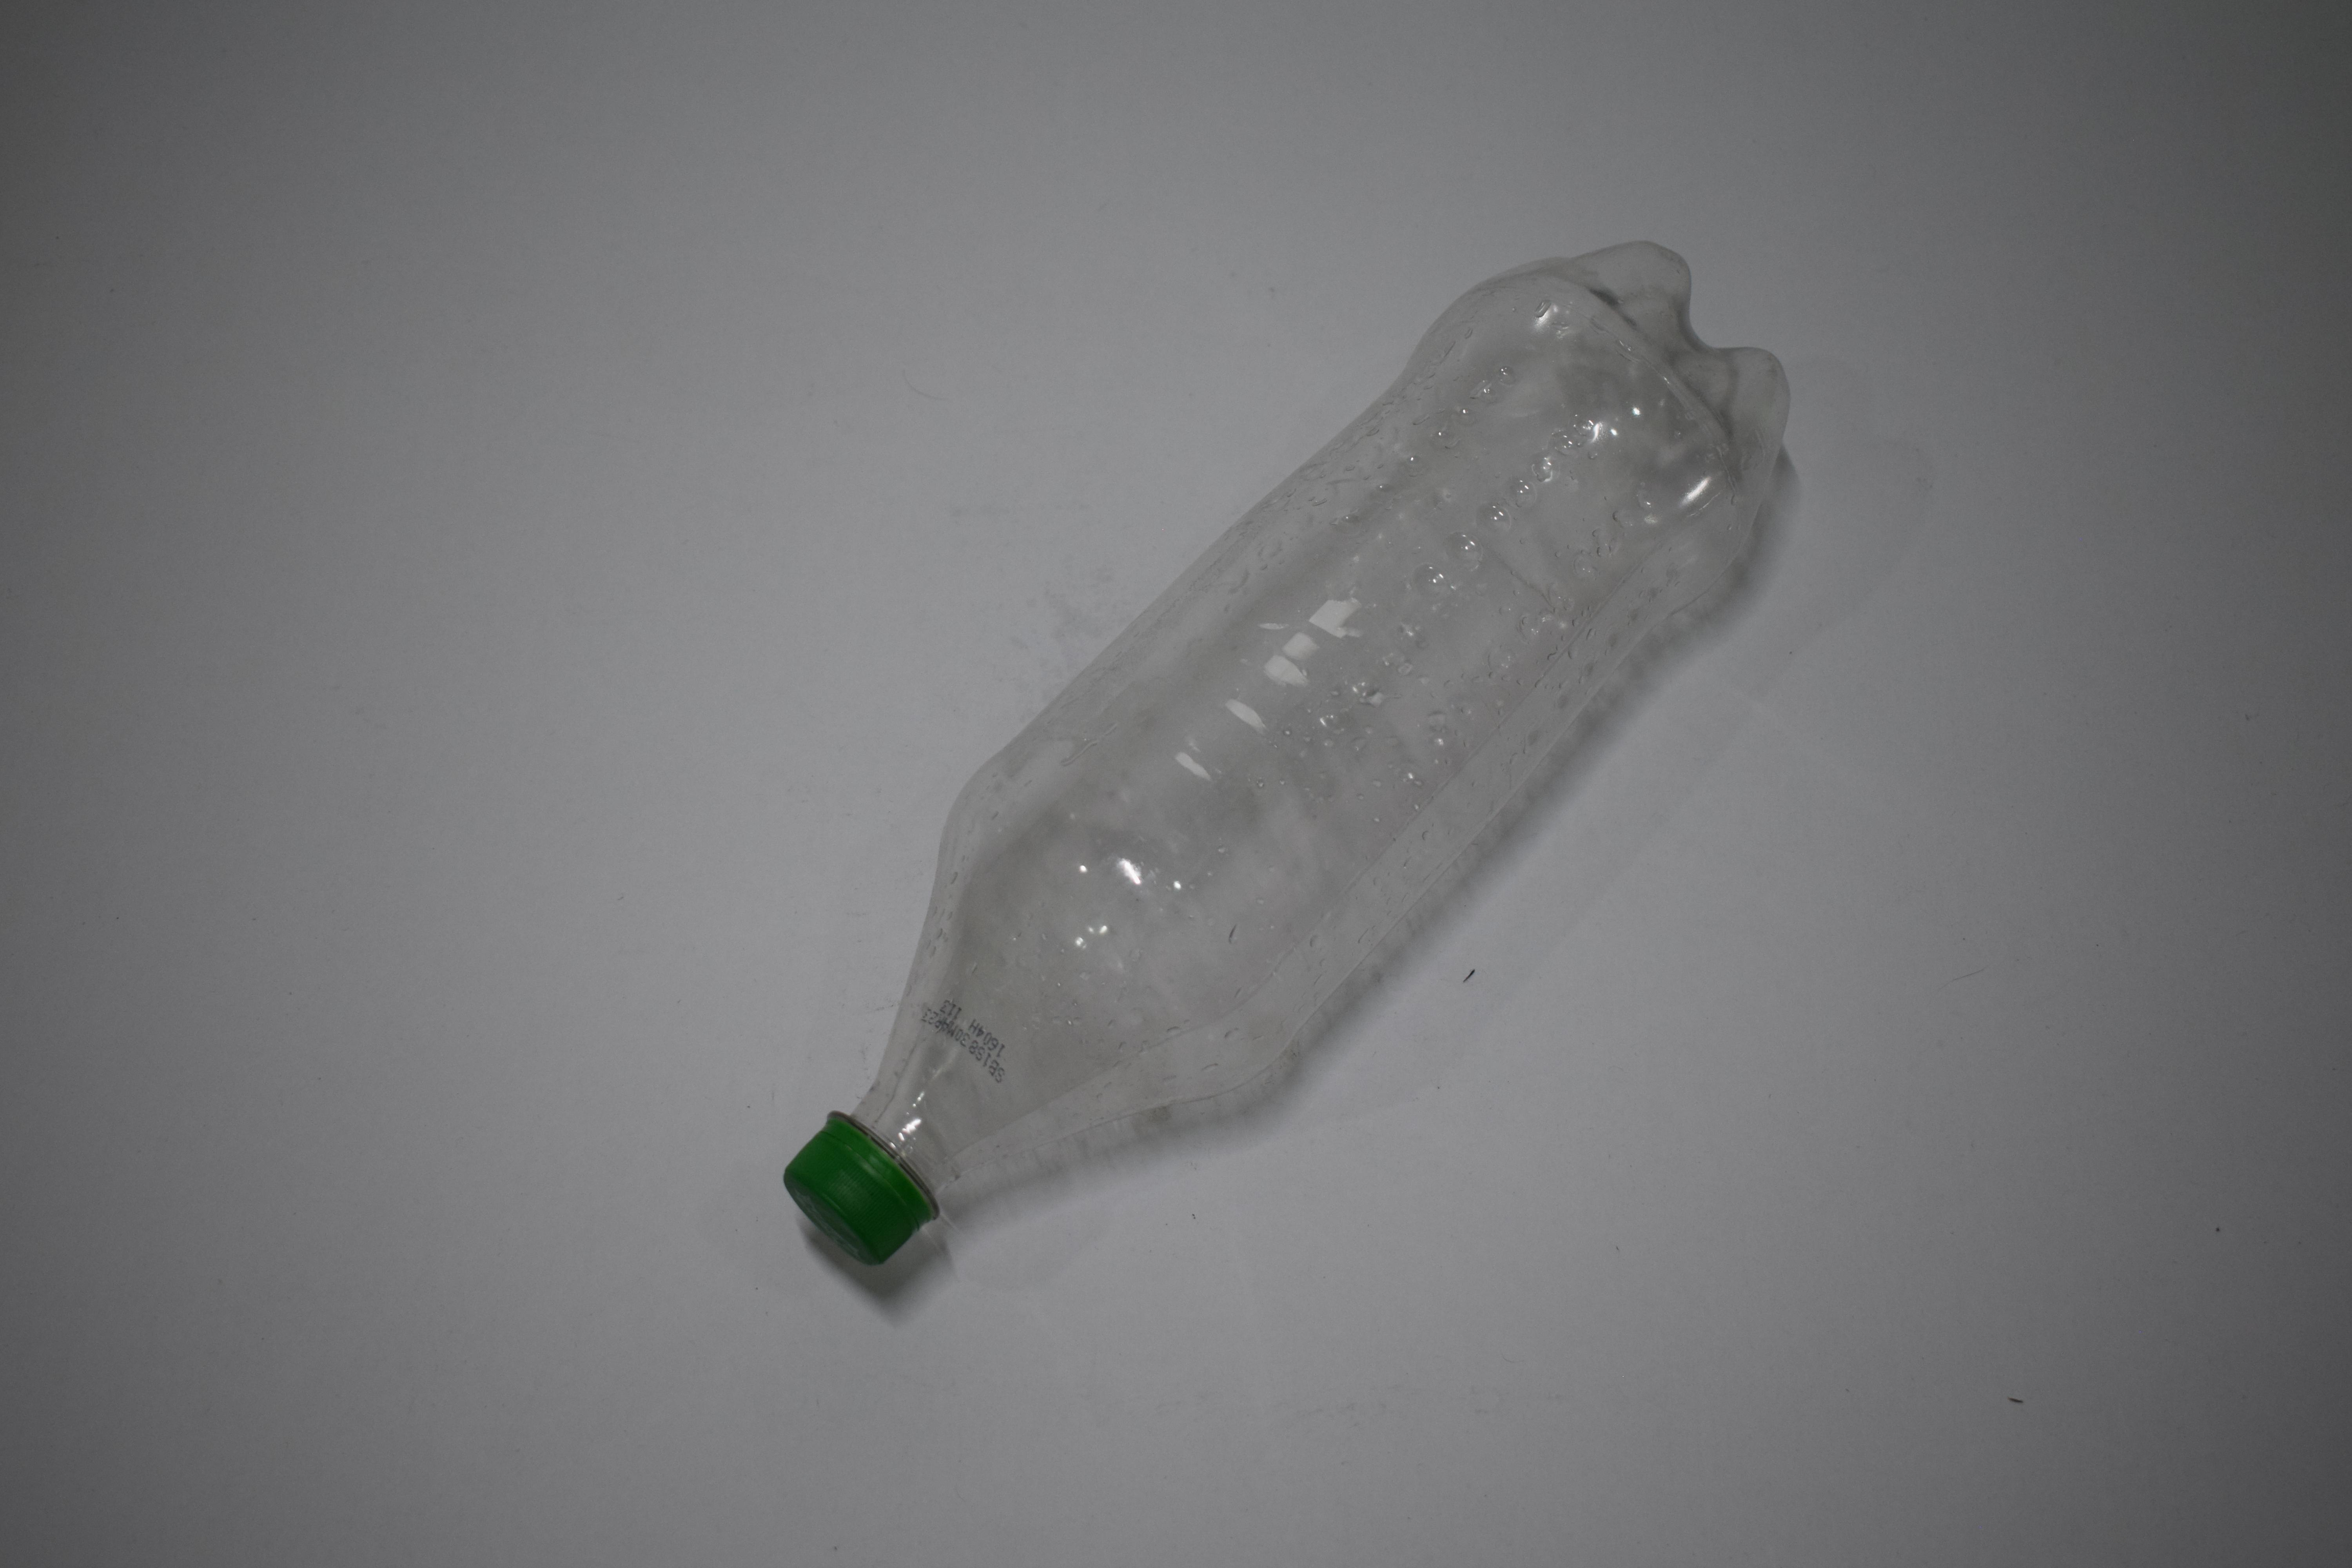bottle: (0, 228, 618, 1277)
